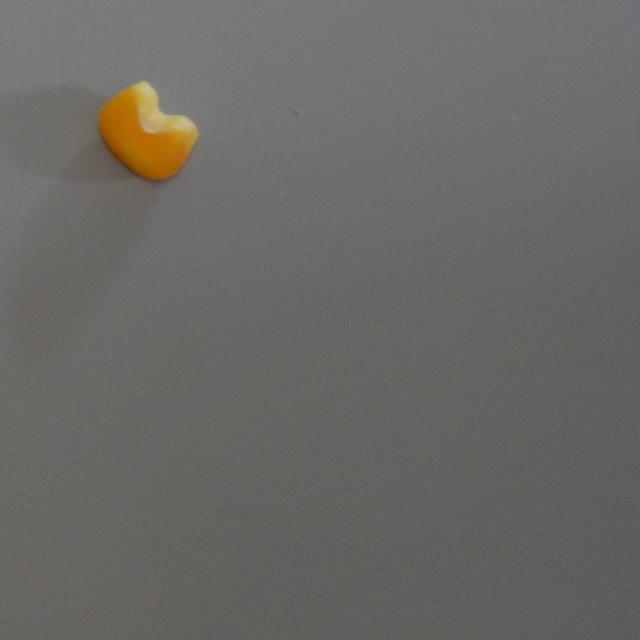no_canjicado: (94, 78, 200, 184)
